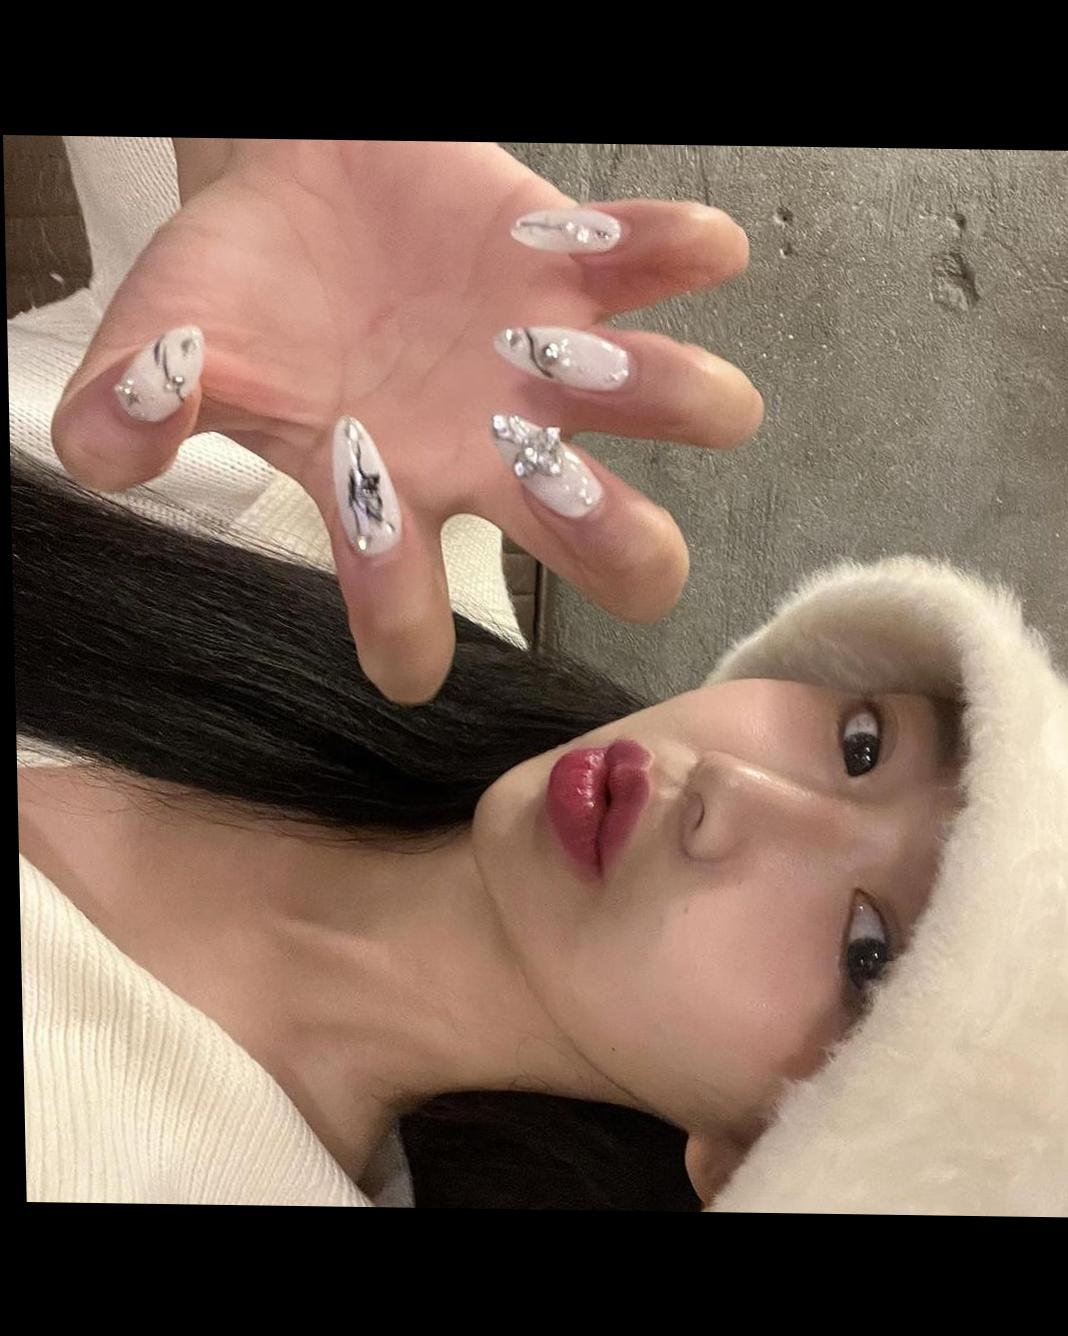nail: (491, 411, 606, 518), (330, 413, 404, 554), (109, 320, 208, 423), (527, 324, 633, 390), (509, 204, 624, 253)
